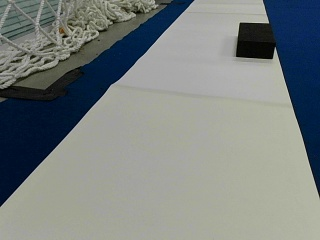block: (235, 22, 275, 58)
